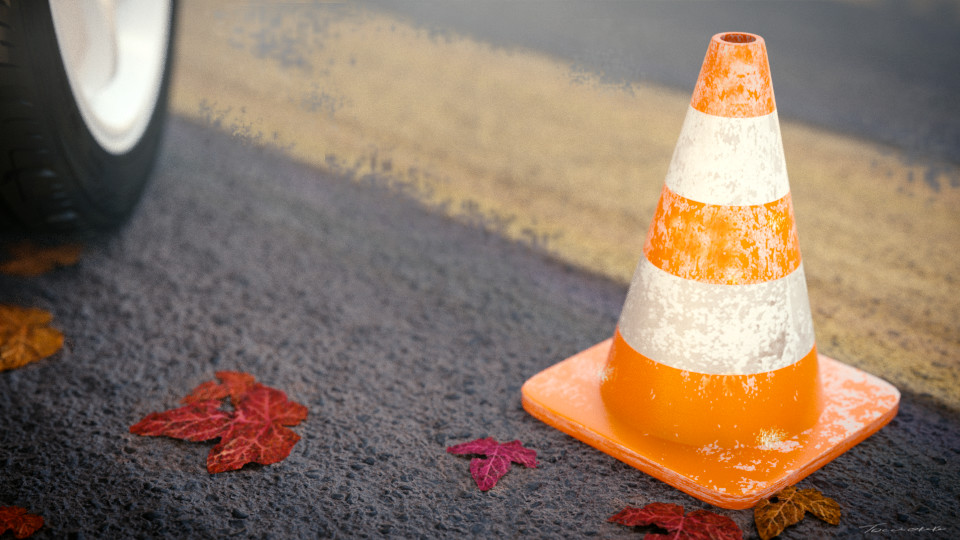cones: (509, 25, 913, 500)
